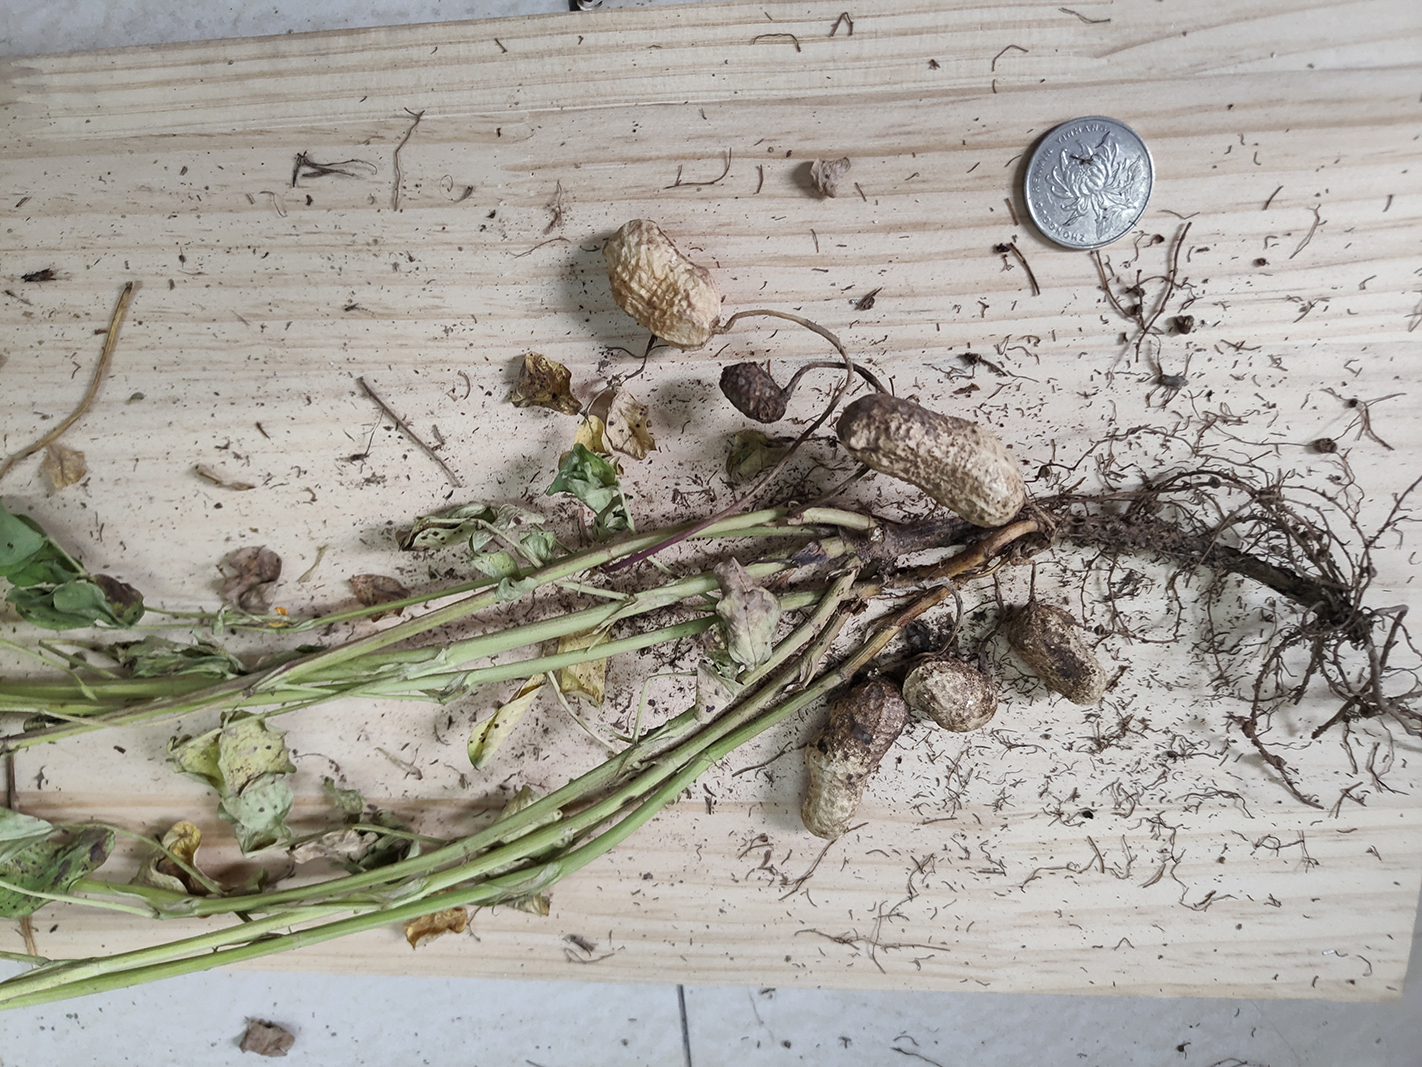h: (840, 395, 1022, 525), (803, 679, 907, 836), (607, 221, 721, 347), (903, 652, 996, 732)
l: (1009, 604, 1103, 703), (721, 362, 787, 423)
